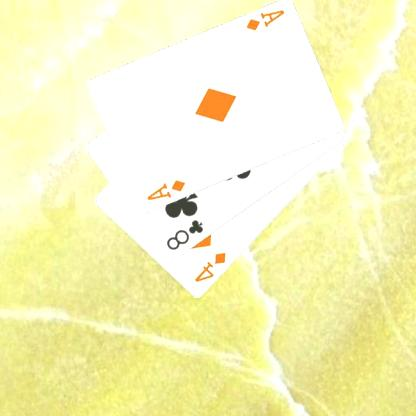4D: (192, 250, 228, 284)
8C: (163, 217, 205, 252)
AD: (242, 7, 286, 33), (143, 178, 187, 202)
